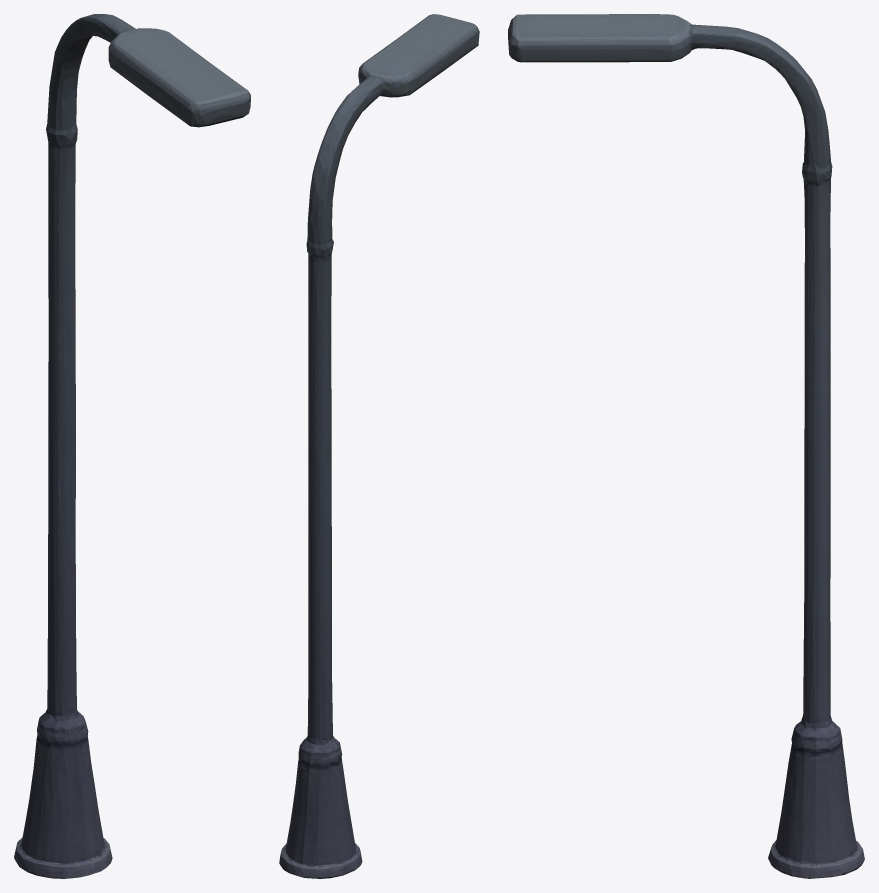
The model's file is poste.glb.
3 views of the same model, side by side, from view 1: azimuth 30°, elevation 25°; view 2: azimuth 150°, elevation 25°; view 3: azimuth 270°, elevation 25° (orthographic). The views are drawn at different scales.
Parts seen in each view (by area): view 1: geometry_0; view 2: geometry_0; view 3: geometry_0.
Boxes of the visible parts, left/top/right/bottom form: geometry_0: left=14, top=14, right=250, bottom=878; geometry_0: left=279, top=14, right=479, bottom=878; geometry_0: left=508, top=14, right=864, bottom=878.
Size of the model in its own units: 0.1015 by 1 by 0.3879.
Materials: 1 (1 with a texture image).
